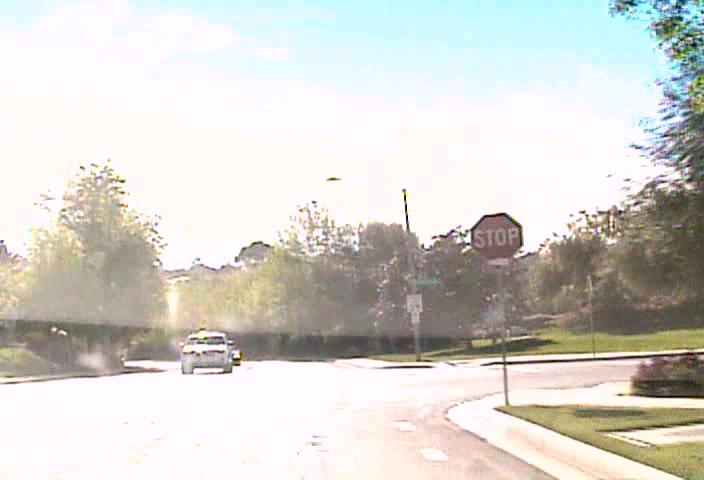stop: (470, 213, 523, 260)
